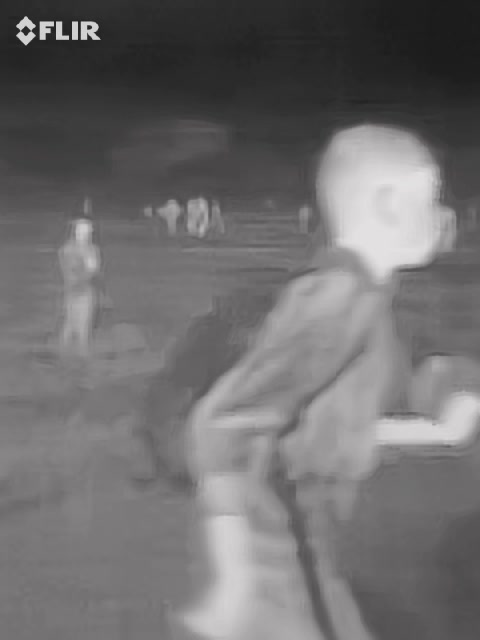head: (309, 119, 474, 290)
